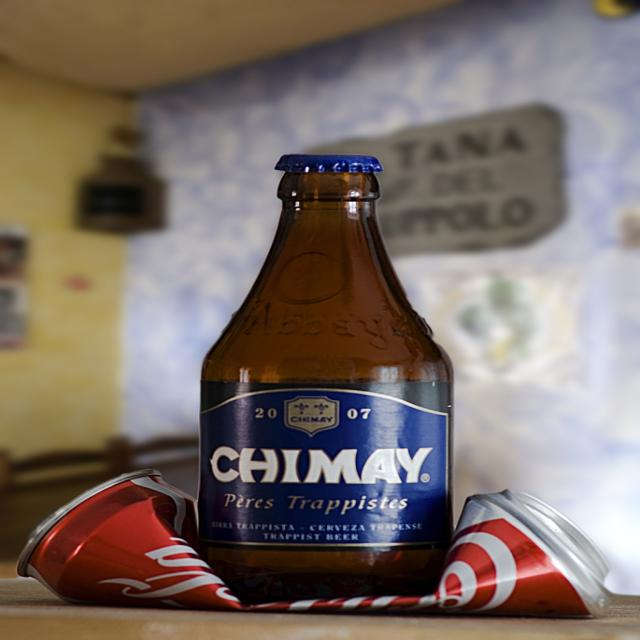chimay: (199, 389, 450, 548)
